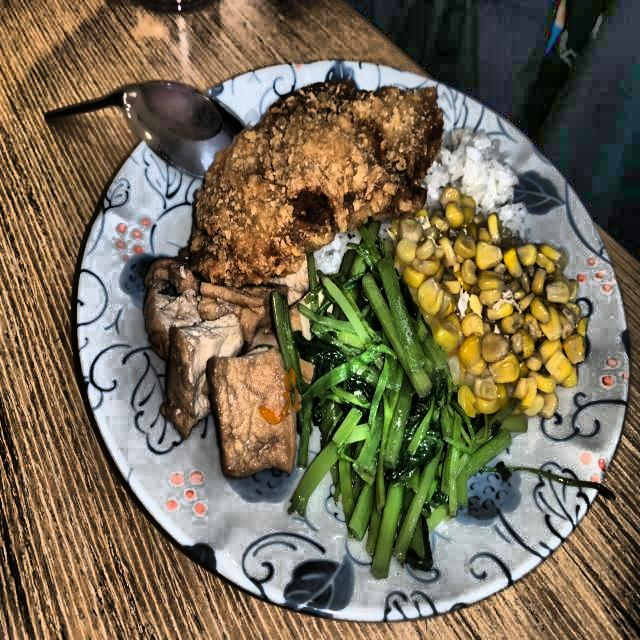Food: (304, 242, 470, 538), (192, 82, 444, 274), (426, 134, 518, 210)
